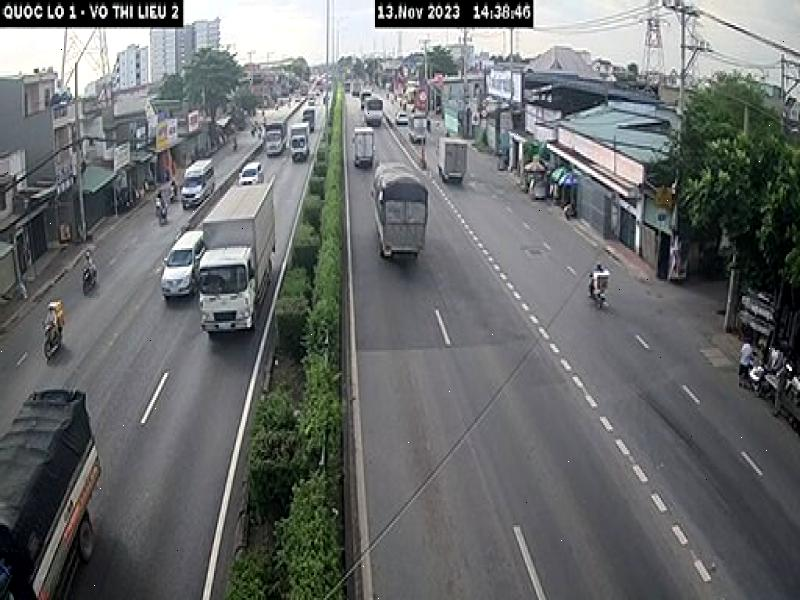truck: (0, 385, 103, 600), (200, 177, 280, 337), (371, 159, 428, 263)
